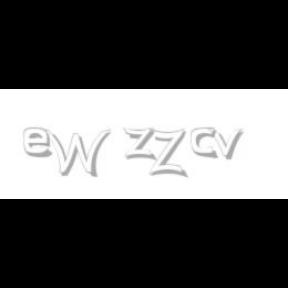W: (39, 128, 111, 178)
Z: (148, 128, 186, 178)
c: (190, 128, 220, 160)
e: (24, 128, 56, 158)
v: (207, 128, 247, 160)
z: (123, 128, 159, 160)
